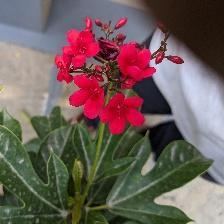jatropha: (103, 89, 147, 136)
